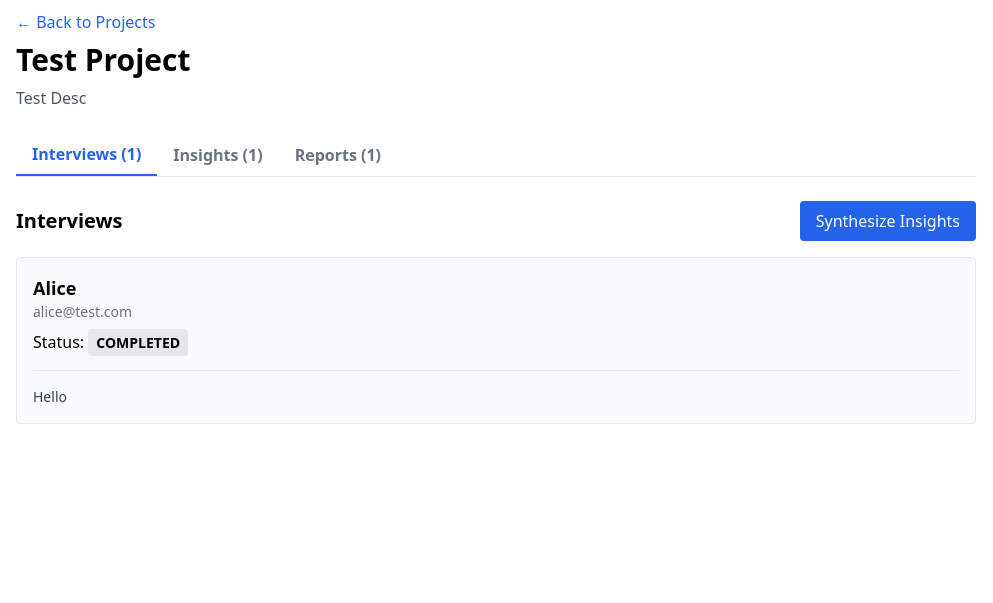
it: Project Details Page › switches to reports tab and handles generation
expect the button "Interviews (1)" is shown: met, box [16,134,157,176]
Click the button "Insights (1)". click: (218, 155)
box: [157,134,279,176]
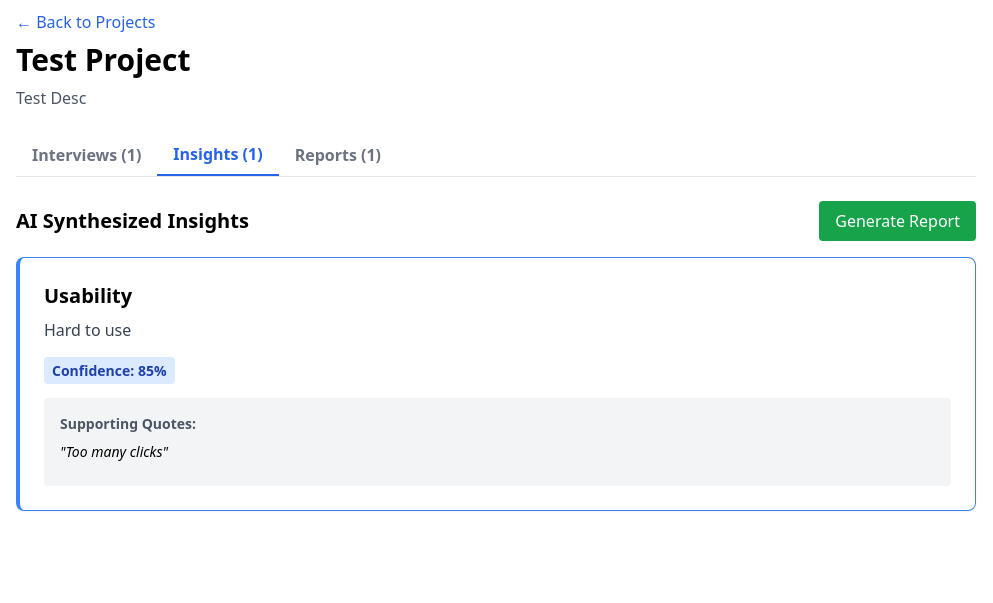
expect the heading "Usability" is shown: met, box [44,282,132,309]
Click the button "Generate Report". click: (898, 221)
box: [819,201,976,241]
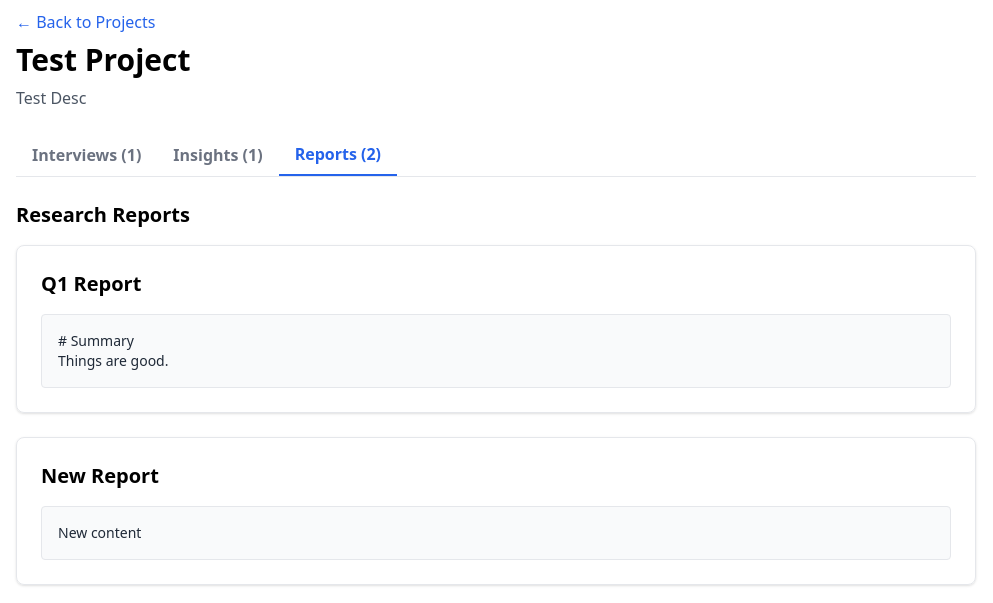
expect the heading "New Report" is shown: met, box [41,462,159,489]
expect the text "New content" is shown: met, box [41,506,951,560]
